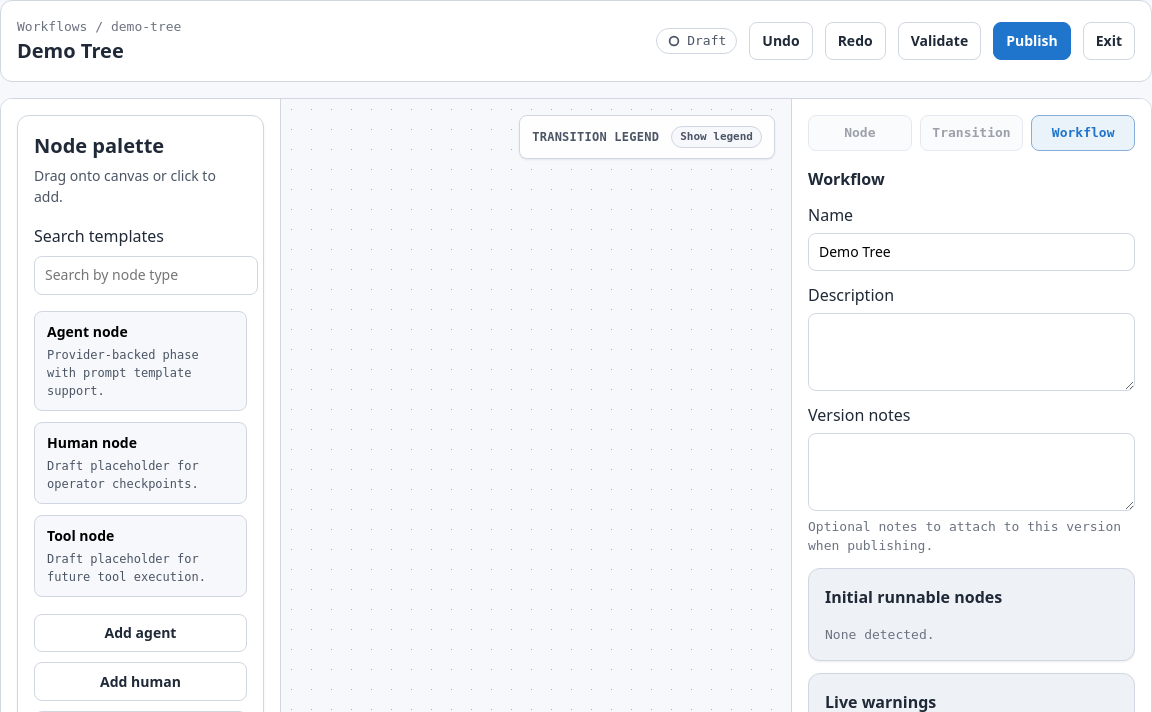
Test: WorkflowEditorPageContent › adds workflow inspector edits to the undo stack
This screenshot has width=1152, height=712.
Replace the text in the field labelled "Name" with "Updated Tree" at (972, 252), box [808,232,1135,270]
Wait 400 ms
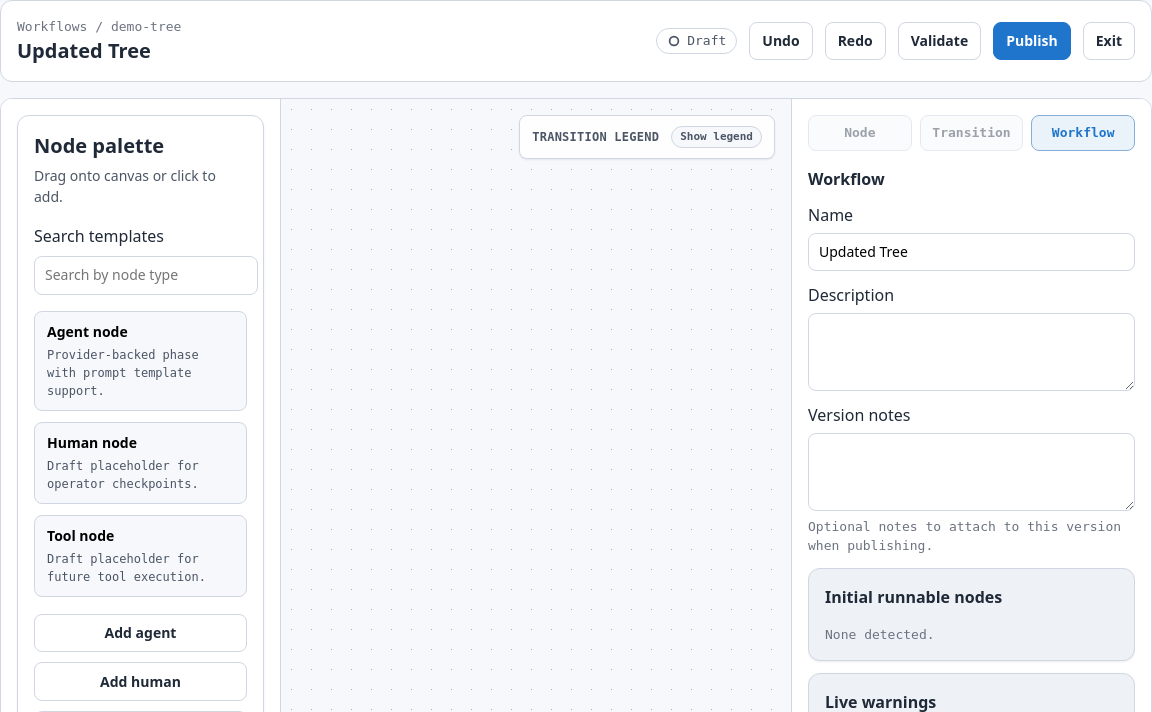
Press z
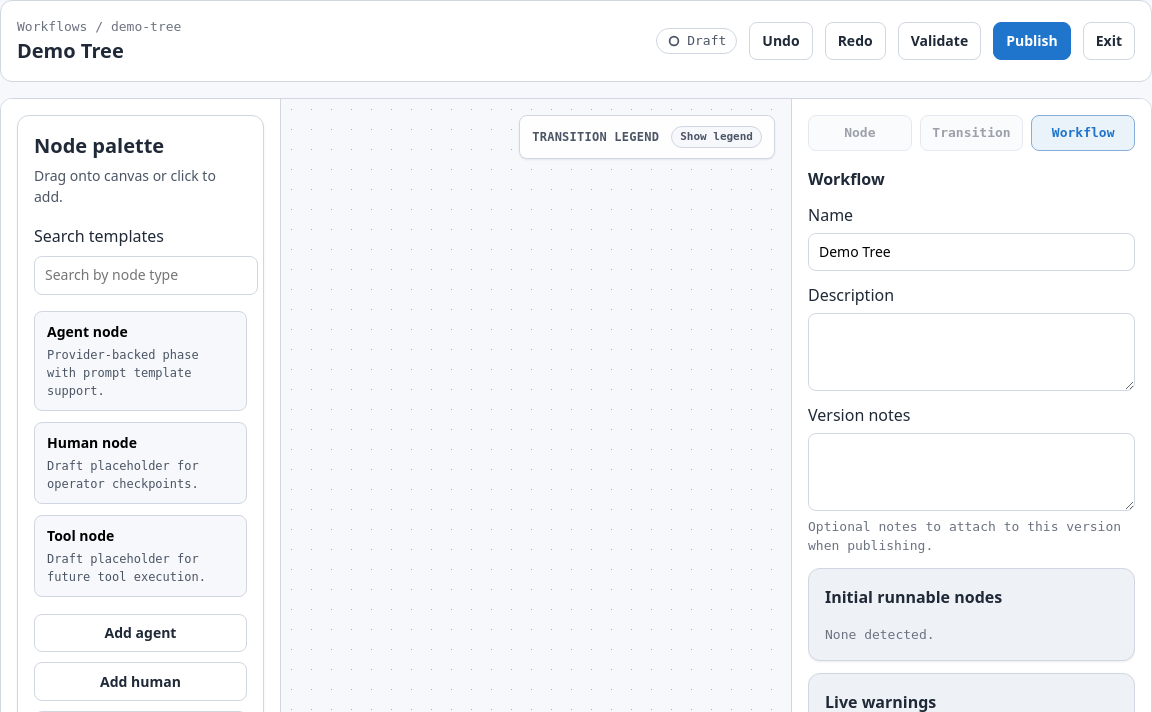
Check: the field labelled "Name" holds "Demo Tree", box [808,232,1135,270]
